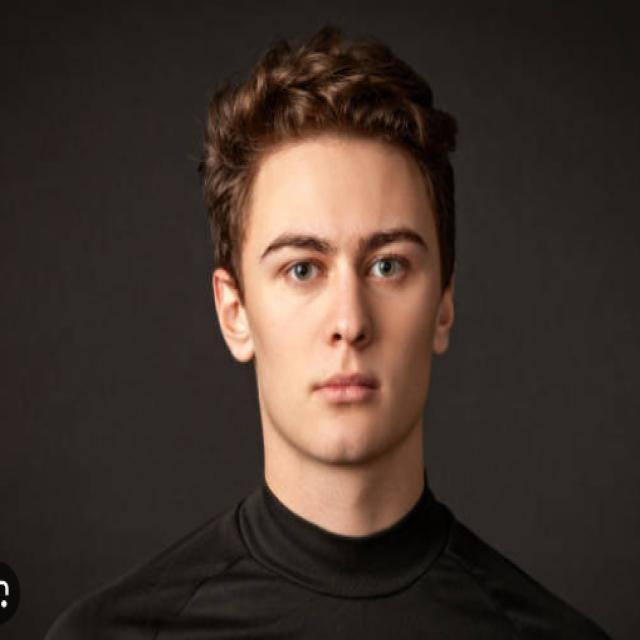face_no_mask: (210, 128, 456, 466)
